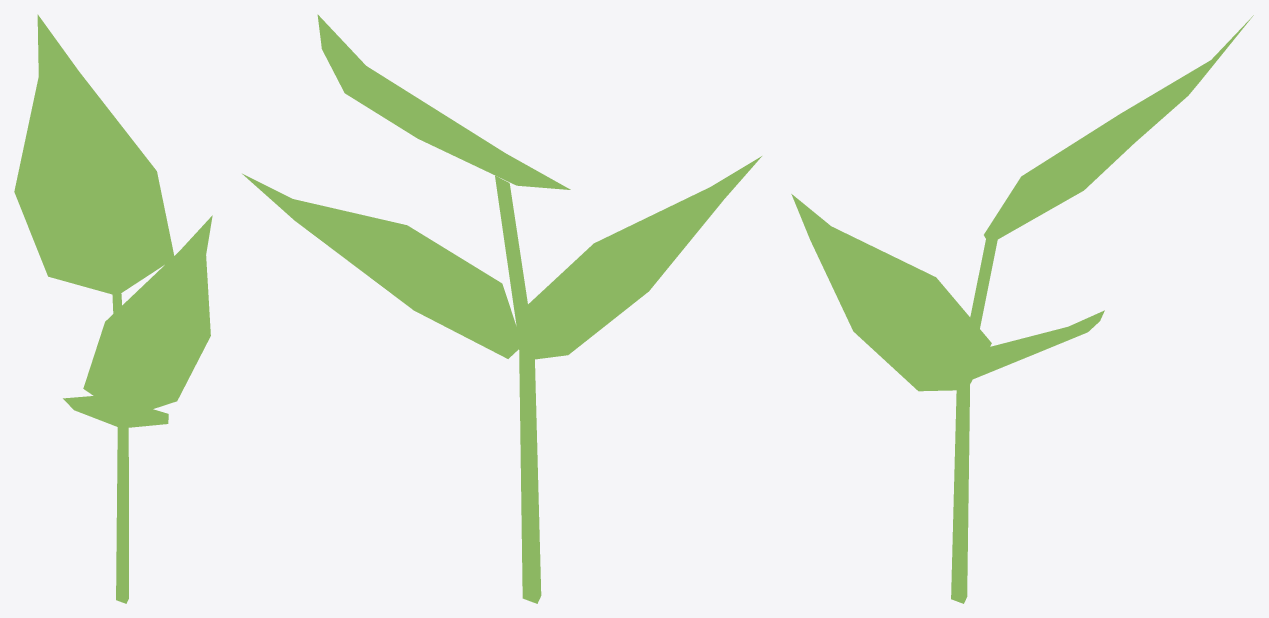
File: Plant_f_OneS_03.fbx
3 views of the same model, side by side, from view 1: azimuth 30°, elevation 25°; view 2: azimuth 150°, elevation 25°; view 3: azimuth 270°, elevation 25° (orthographic). The views are drawn at different scales.
Parts seen in each view (by area): view 1: Plant_f_OneS_03; view 2: Plant_f_OneS_03; view 3: Plant_f_OneS_03.
Part boxes in pixels (box(x1,y1,x2,y2)): Plant_f_OneS_03: box(14, 14, 212, 603); Plant_f_OneS_03: box(242, 14, 761, 603); Plant_f_OneS_03: box(791, 15, 1253, 603).
Bounding box in the file's own units: 0.2773 × 0.5431 × 0.3766.
